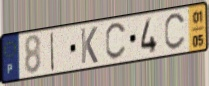4: (140, 16, 159, 54)
8: (23, 34, 43, 77)
C: (104, 21, 128, 62), (163, 11, 187, 52)
I: (50, 31, 56, 74)
K: (79, 26, 99, 66)
